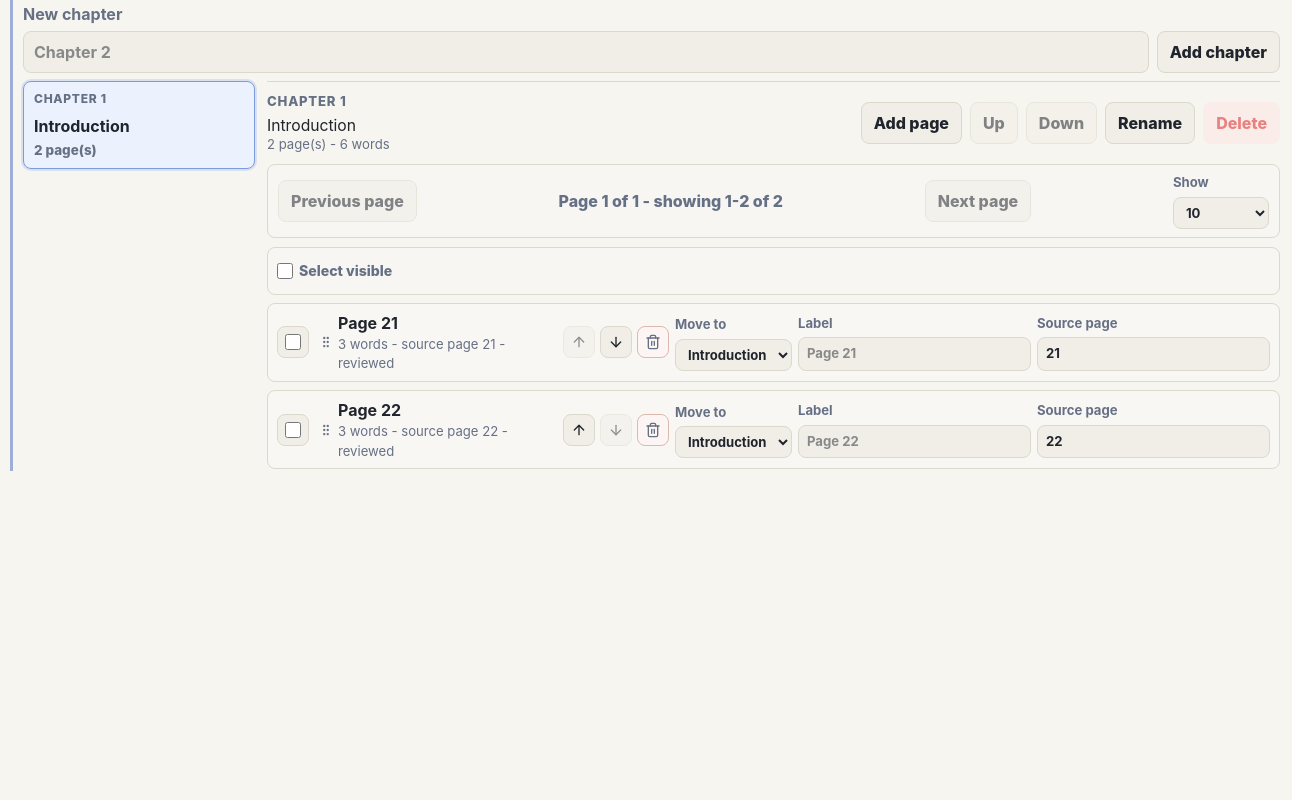
Test: DocumentOrganizer › adds a manual page to the selected chapter
Expected: the field labelled "New page label" is not shown
Click the button "Add page": (911, 124) top-left (861, 102), bottom-right (962, 144)
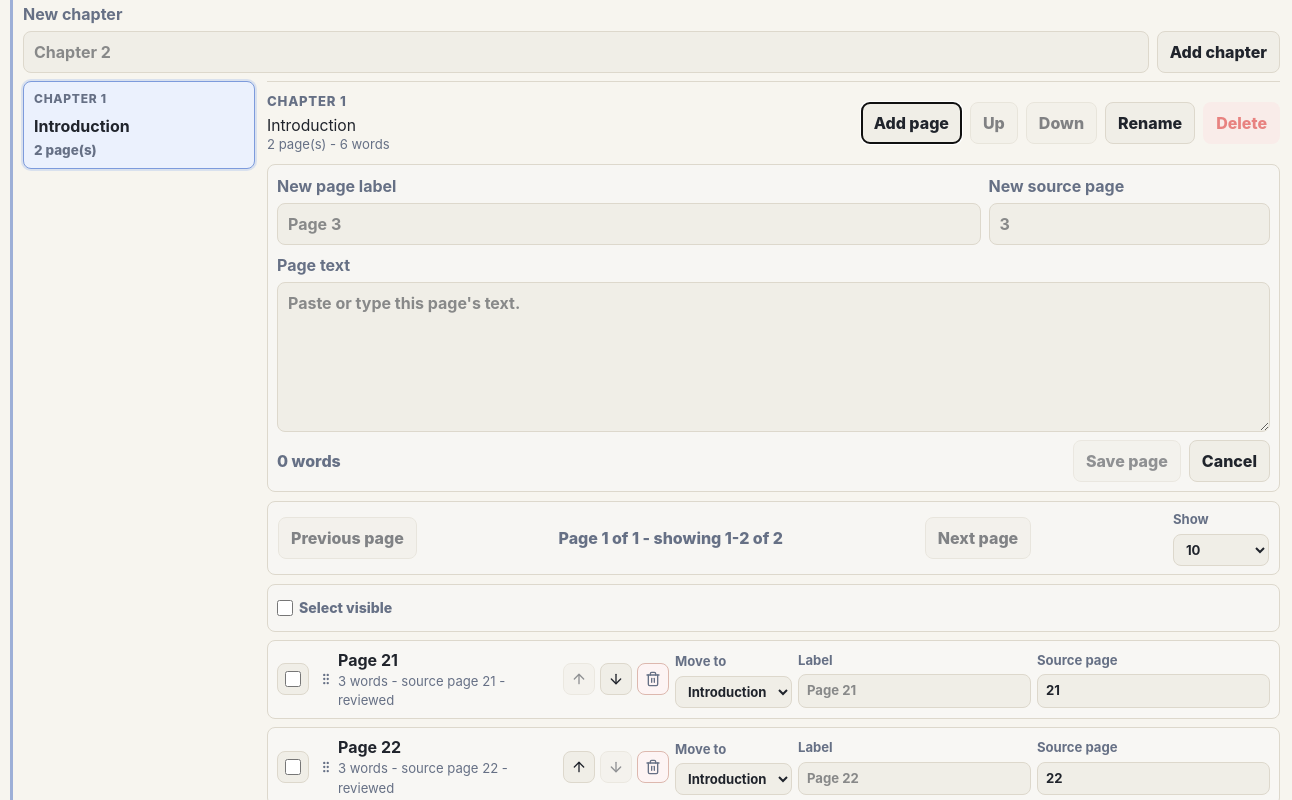
In the field labelled "New page label": (629, 224) top-left (277, 203), bottom-right (981, 245), type "Fresh page"
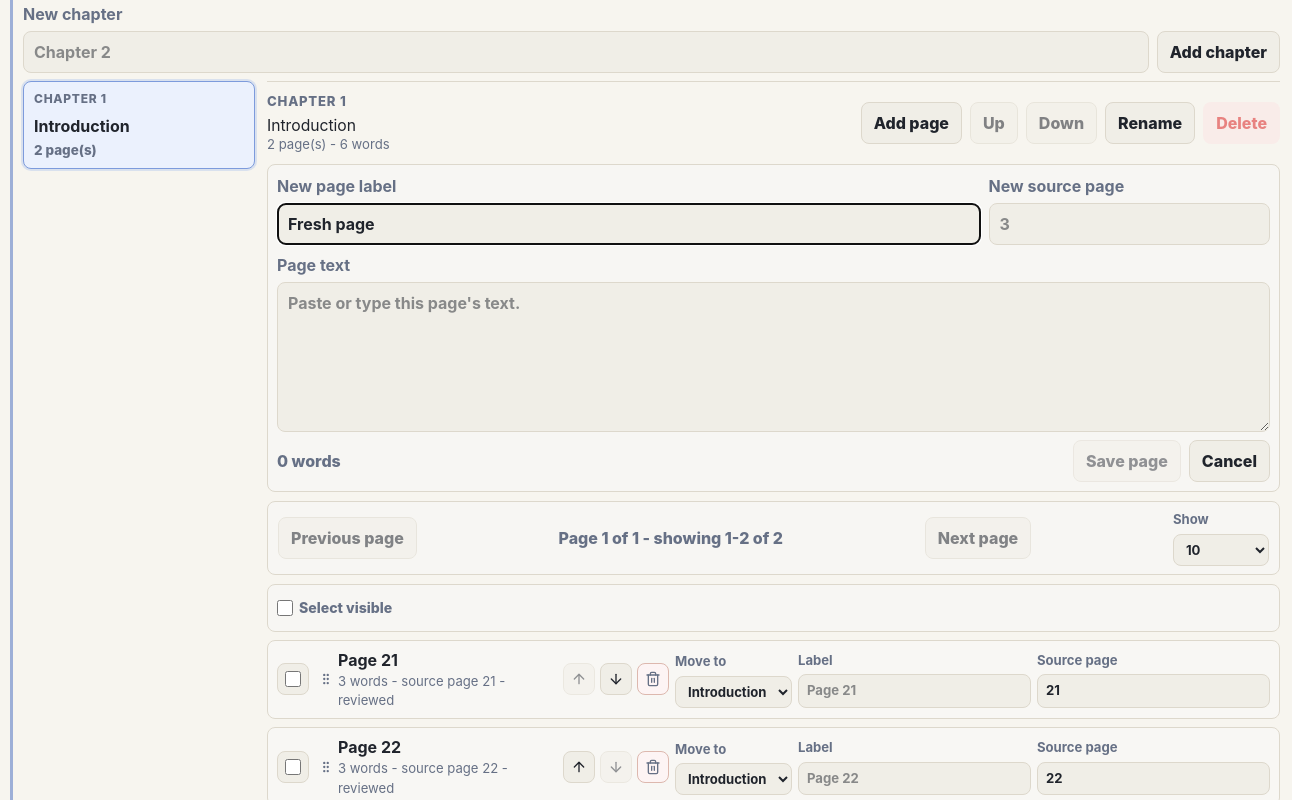
In the field labelled "New source page": (1129, 224) top-left (989, 203), bottom-right (1270, 245), type "23"
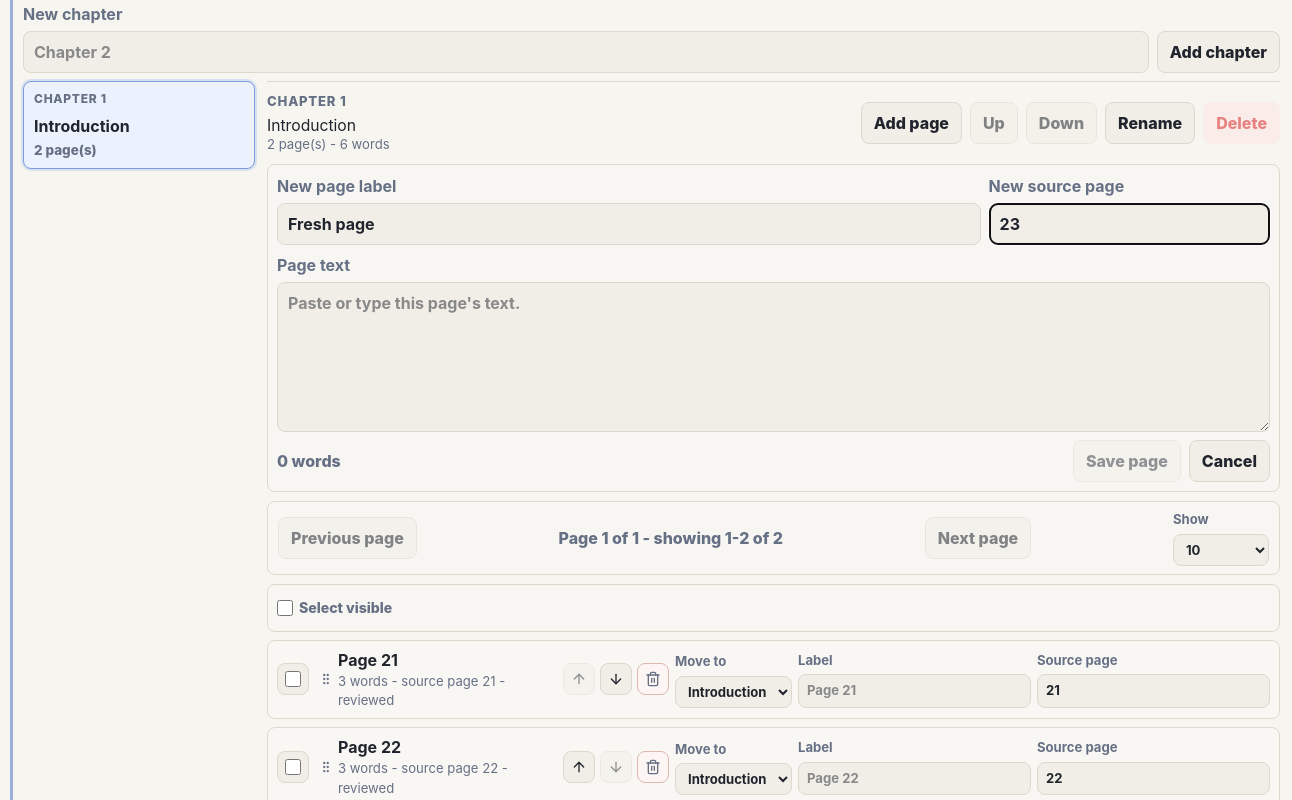
In the text box labelled "Page text": (774, 357) top-left (277, 282), bottom-right (1270, 432), type "New manually entered page text."
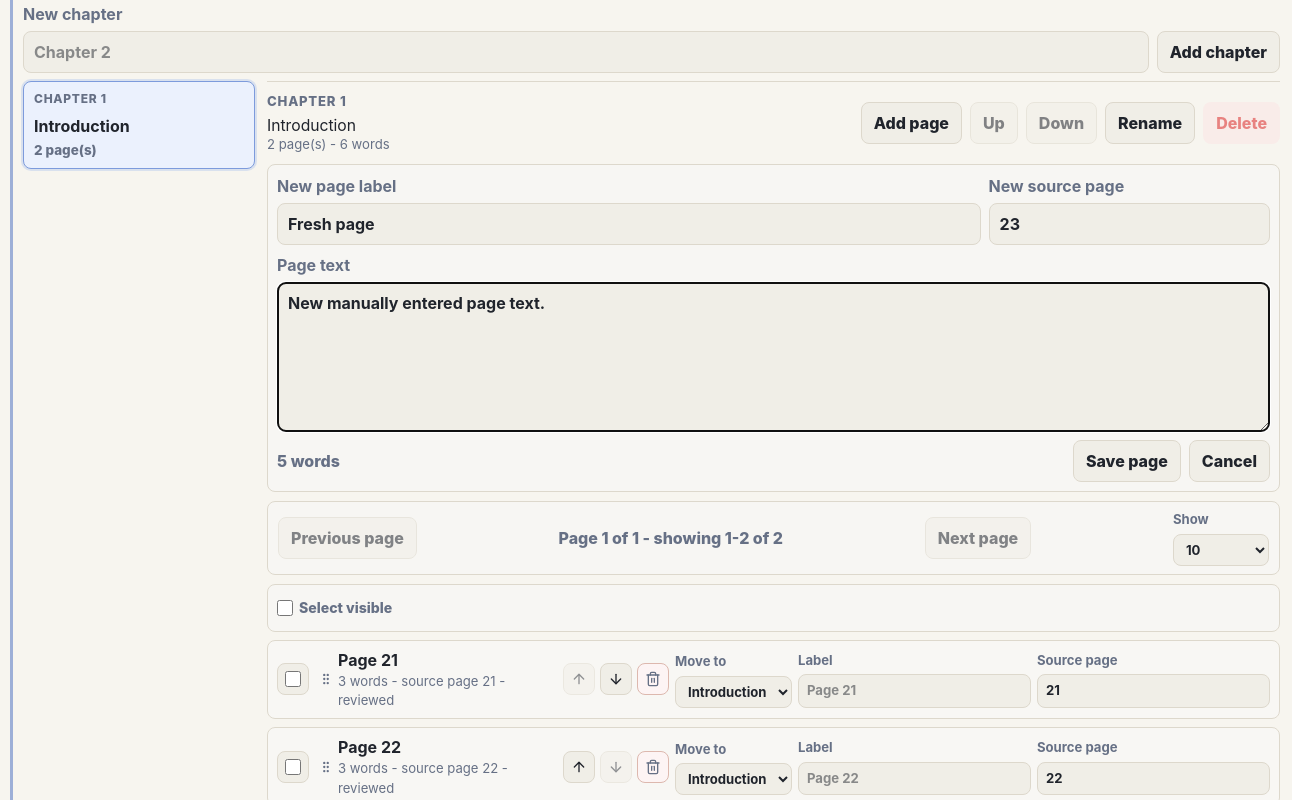
Click the button "Save page": (1127, 461) top-left (1073, 440), bottom-right (1181, 482)
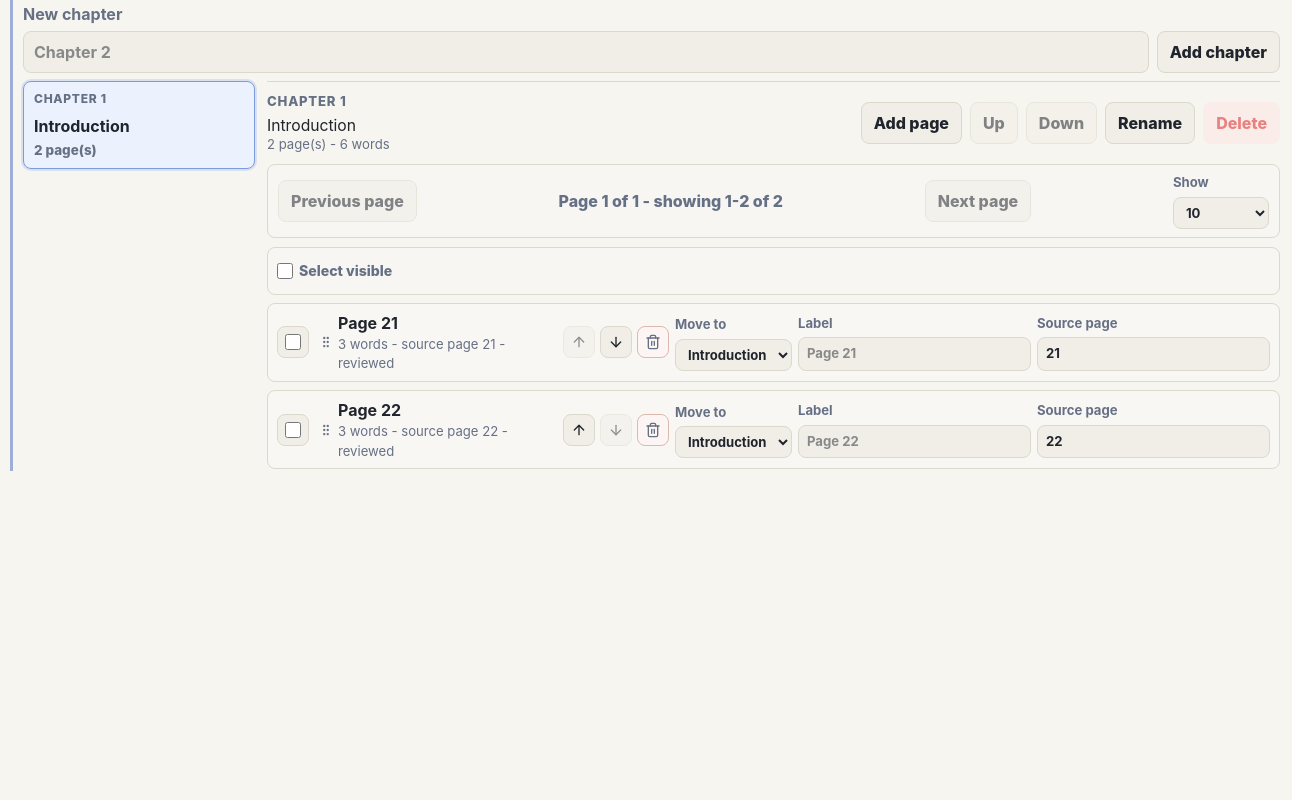
Now the label labelled "New page label" is gone
